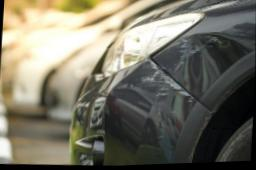Bumper: (117, 57, 222, 166)
Fender: (152, 28, 256, 111)
